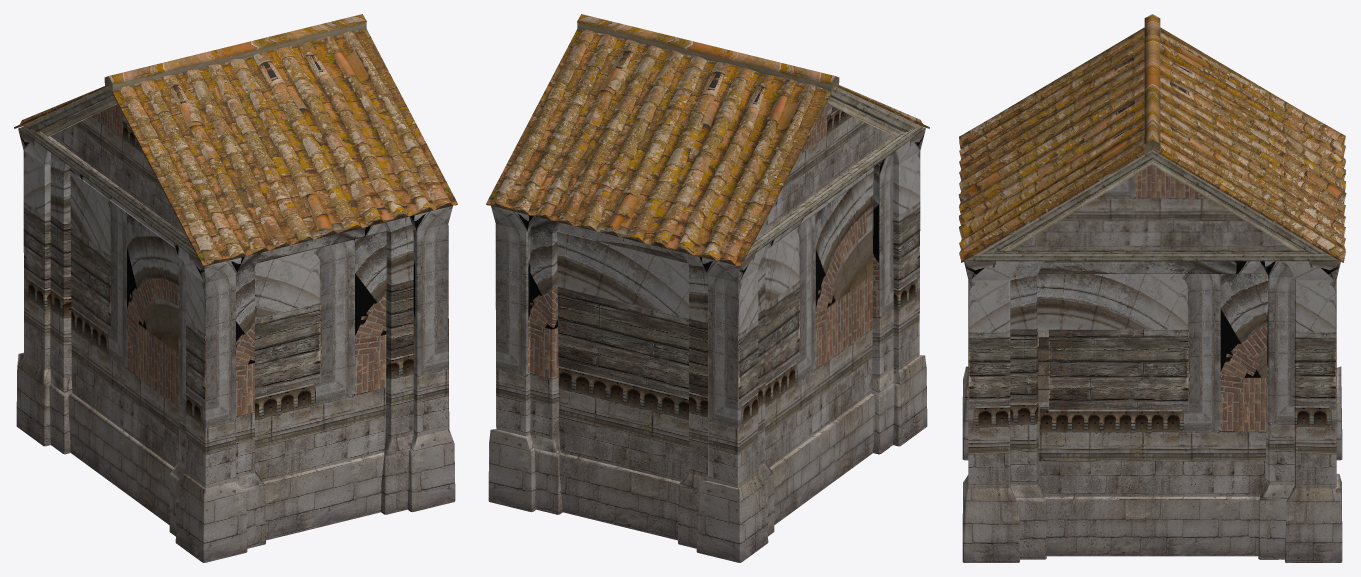
Rendered from Basic15.fbx.
3 views of the same model, side by side, from view 1: azimuth 30°, elevation 25°; view 2: azimuth 150°, elevation 25°; view 3: azimuth 270°, elevation 25° (orthographic).
Visible parts, largest first — view 1: LV_Campagna_City_CommonBuilding08_SM_CNH; view 2: LV_Campagna_City_CommonBuilding08_SM_CNH; view 3: LV_Campagna_City_CommonBuilding08_SM_CNH.
Boxes of the visible parts, x1,y1,x2,y2 form: LV_Campagna_City_CommonBuilding08_SM_CNH: [14, 14, 457, 562]; LV_Campagna_City_CommonBuilding08_SM_CNH: [486, 14, 929, 562]; LV_Campagna_City_CommonBuilding08_SM_CNH: [958, 14, 1346, 562].
Bounding box in the file's own units: 1.13 × 1.77 × 1.47.
